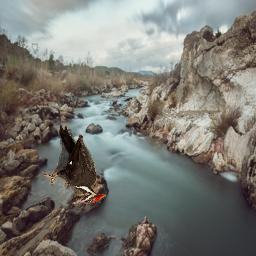Woodpecker: (42, 124, 106, 205)
